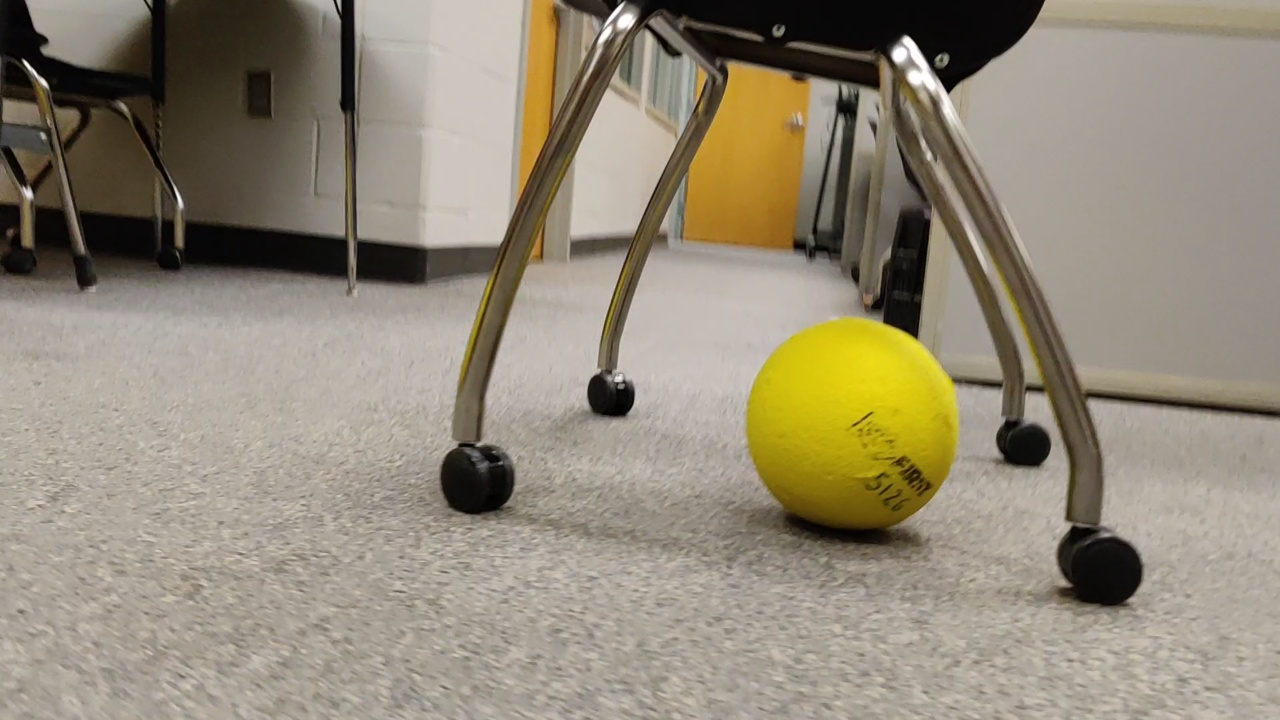Ball: (748, 316, 959, 541)
